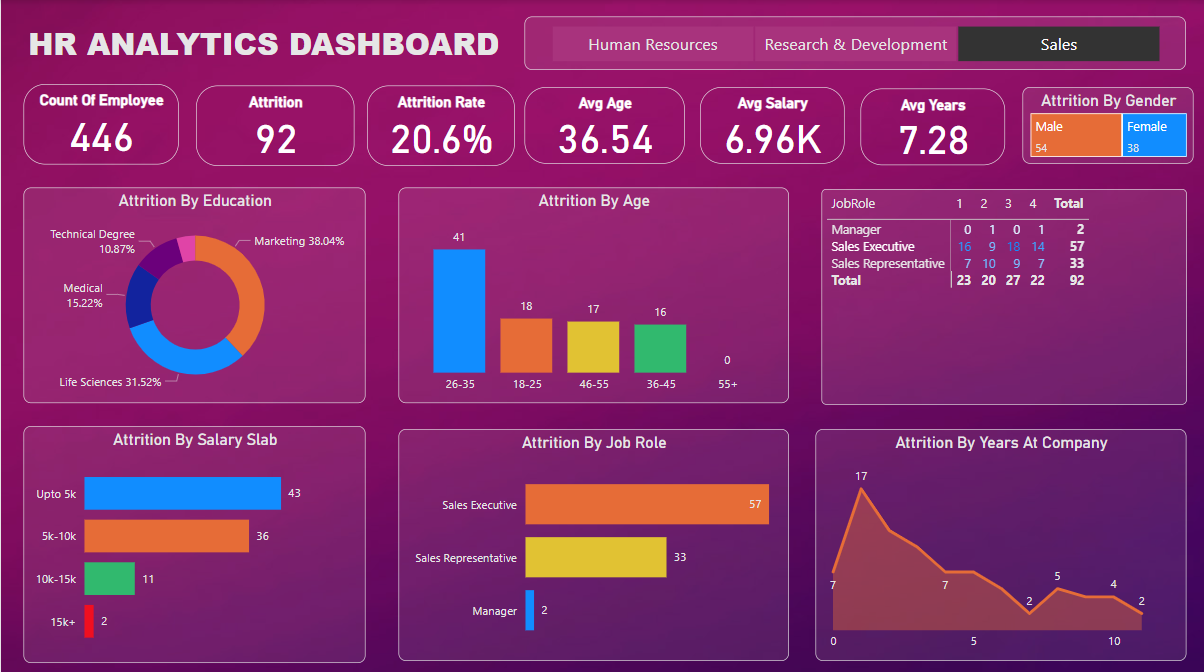

The dashboard page shown, as its layout file describes it:
{"tool":"powerbi","page":{"name":"Page 1","canvas":[1280,720],"ordinal":0},"visuals":[{"type":"card","title":"Count Of Employee","fields":{"Values":["CountNonNull(HR_Analytics.EmpID)"]},"box":[24.6,88.8,164.4,85],"z":0},{"type":"card","title":"Attrition Rate","fields":{"Values":["HR_Analytics.AttritionRate"]},"box":[387.4,90.7,156.9,85],"z":1000},{"type":"card","title":"Avg Age","fields":{"Values":["Avg(HR_Analytics.Age)"]},"box":[555.6,92.6,170.1,81.3],"z":2000},{"type":"card","title":"Attrition","fields":{"Values":["Sum(HR_Analytics.Attrition Count)"]},"box":[206,90.7,168.2,85],"z":3000},{"type":"card","title":"Avg Salary","fields":{"Values":["Avg(HR_Analytics.MonthlyIncome)"]},"box":[740.8,92.6,153.1,81.3],"z":4000},{"type":"card","title":"Avg Years","fields":{"Values":["Avg(HR_Analytics.YearsAtCompany)"]},"box":[910.9,94.5,153.1,81.3],"z":5000},{"type":"donutChart","title":"Attrition By Education","fields":{"Y":["Sum(HR_Analytics.Attrition Count)"],"Category":["HR_Analytics.EducationField"]},"box":[24.6,198.4,362.8,228.7],"z":6000},{"type":"columnChart","title":"Attrition By Age","fields":{"Category":["HR_Analytics.AgeGroup"],"Y":["Sum(HR_Analytics.Attrition Count)"]},"box":[421.4,198.4,413.9,228.7],"z":7000},{"type":"barChart","title":"Attrition By Salary Slab","fields":{"Category":["HR_Analytics.SalarySlab"],"Y":["Sum(HR_Analytics.Attrition Count)"]},"box":[24.6,451.7,362.8,251.3],"z":8000},{"type":"barChart","title":"Attrition By Job Role","fields":{"Y":["Sum(HR_Analytics.Attrition Count)"],"Category":["HR_Analytics.JobRole"]},"box":[421.4,455.4,413.9,245.7],"z":9000},{"type":"areaChart","title":"Attrition By Years At Company","fields":{"Category":["HR_Analytics.YearsAtCompany"],"Y":["Sum(HR_Analytics.Attrition Count)"]},"box":[863.6,455.4,393.1,245.7],"z":10000},{"type":"treemap","title":"Attrition By Gender","fields":{"Group":["HR_Analytics.Gender"],"Values":["Sum(HR_Analytics.Attrition Count)"]},"box":[1082.8,92.6,181.4,81.3],"z":11000},{"type":"slicer","fields":{"Values":["HR_Analytics.Department"]},"box":[555.6,17,701.1,56.7],"z":12000},{"type":"textbox","box":[24.6,17,531,56.7],"z":13000},{"type":"pivotTable","fields":{"Rows":["HR_Analytics.JobRole"],"Columns":["HR_Analytics.JobSatisfaction"],"Values":["Sum(HR_Analytics.Attrition Count)"]},"box":[870,201,387.4,228.7],"z":14000}]}

Visuals, with their boxes in screenshot pixels (x1, y1, x2, y2), scaled from the page's 1280x720 canvas onto the 1204x672 screenshot:
"Count Of Employee" card: BBox(23, 83, 178, 162)
"Attrition Rate" card: BBox(364, 85, 512, 164)
"Avg Age" card: BBox(523, 86, 683, 162)
"Attrition" card: BBox(194, 85, 352, 164)
"Avg Salary" card: BBox(697, 86, 841, 162)
"Avg Years" card: BBox(857, 88, 1001, 164)
"Attrition By Education" donutChart: BBox(23, 185, 364, 399)
"Attrition By Age" columnChart: BBox(396, 185, 786, 399)
"Attrition By Salary Slab" barChart: BBox(23, 422, 364, 656)
"Attrition By Job Role" barChart: BBox(396, 425, 786, 654)
"Attrition By Years At Company" areaChart: BBox(812, 425, 1182, 654)
"Attrition By Gender" treemap: BBox(1019, 86, 1189, 162)
slicer - HR_Analytics.Department: BBox(523, 16, 1182, 69)
textbox: BBox(23, 16, 523, 69)
pivotTable - HR_Analytics.JobRole x HR_Analytics.JobSatisfaction: BBox(818, 188, 1183, 401)
